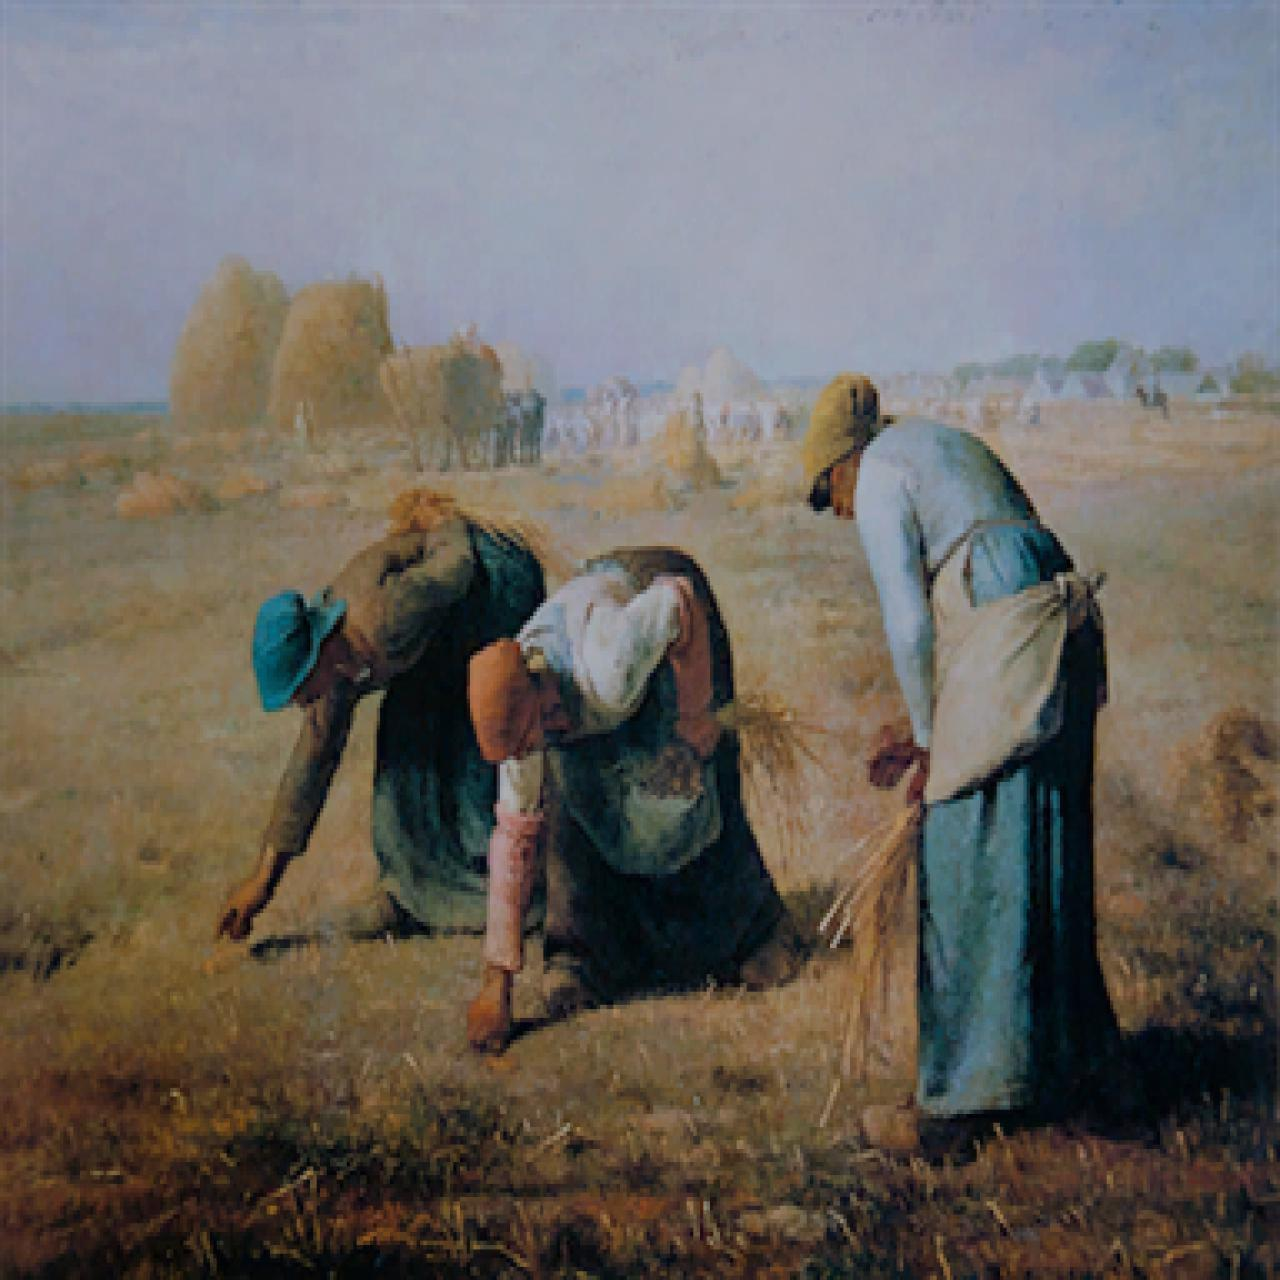Gleaners: (1, 1, 1278, 1276)
